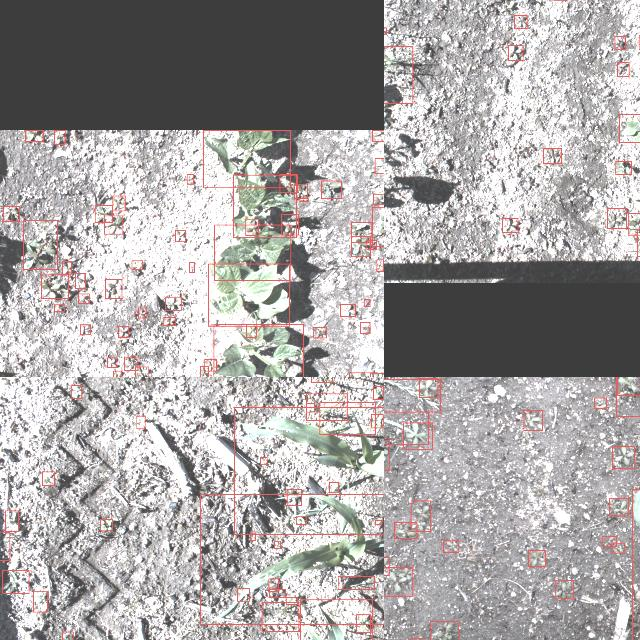crop: (201, 494, 384, 624), (234, 406, 384, 534), (208, 263, 290, 325), (204, 129, 290, 187), (214, 324, 304, 377), (215, 224, 291, 280), (234, 174, 296, 236), (300, 599, 372, 640)
weed: (384, 378, 440, 411), (320, 401, 374, 433), (384, 45, 413, 103), (23, 220, 57, 268), (384, 411, 428, 443), (306, 392, 348, 420), (262, 602, 298, 630), (384, 566, 413, 595), (403, 422, 433, 448), (42, 274, 68, 298), (411, 501, 431, 532), (619, 114, 640, 142), (3, 570, 29, 592), (430, 621, 459, 640), (612, 446, 634, 468), (372, 206, 384, 245), (338, 576, 374, 588), (351, 221, 372, 241), (617, 377, 640, 394), (352, 236, 371, 256), (419, 378, 438, 397), (321, 180, 341, 198), (608, 208, 626, 228), (524, 410, 542, 430), (32, 590, 48, 612), (395, 522, 417, 538), (282, 213, 298, 234), (95, 204, 113, 222), (104, 215, 122, 233), (280, 173, 298, 191), (555, 580, 573, 598), (610, 497, 628, 515), (106, 278, 122, 298), (0, 531, 10, 560), (543, 148, 561, 164), (528, 550, 546, 566), (5, 510, 19, 530), (628, 213, 640, 235), (508, 44, 524, 60), (286, 489, 302, 505), (356, 614, 370, 632), (3, 206, 19, 220), (502, 218, 518, 232), (124, 356, 138, 370), (166, 296, 180, 310), (294, 183, 308, 197), (340, 304, 356, 316), (246, 218, 258, 234), (616, 162, 632, 174), (443, 540, 459, 552), (514, 15, 528, 28), (25, 130, 43, 140), (54, 129, 66, 143), (113, 196, 125, 210), (42, 471, 54, 485), (371, 413, 383, 427), (75, 272, 85, 288), (614, 36, 626, 49), (205, 359, 217, 371), (100, 518, 112, 530), (237, 588, 249, 600), (135, 366, 148, 377), (62, 260, 72, 274), (246, 324, 256, 338), (618, 62, 628, 76), (72, 384, 82, 398), (269, 578, 279, 592), (602, 536, 616, 546), (375, 157, 384, 172), (314, 327, 326, 338), (372, 129, 384, 140), (270, 589, 286, 597), (348, 372, 373, 377), (78, 293, 90, 303), (176, 229, 186, 241), (374, 386, 384, 398), (594, 397, 606, 407), (612, 542, 624, 552), (137, 414, 145, 428), (373, 193, 384, 203), (107, 357, 117, 367), (80, 324, 90, 334), (118, 326, 128, 336), (360, 322, 370, 332), (329, 482, 339, 492), (164, 317, 176, 325), (200, 365, 208, 377), (286, 596, 298, 604), (63, 631, 73, 640), (311, 377, 332, 381), (132, 260, 142, 268), (138, 307, 146, 317), (54, 304, 64, 312), (186, 173, 194, 183), (367, 240, 377, 248), (376, 260, 384, 270), (296, 516, 306, 524), (306, 402, 314, 412), (113, 370, 121, 377), (370, 373, 384, 377), (364, 298, 370, 306), (274, 540, 280, 548), (250, 532, 256, 540), (261, 456, 267, 464), (190, 262, 194, 272), (410, 637, 422, 640), (376, 520, 382, 524), (300, 198, 308, 200)
